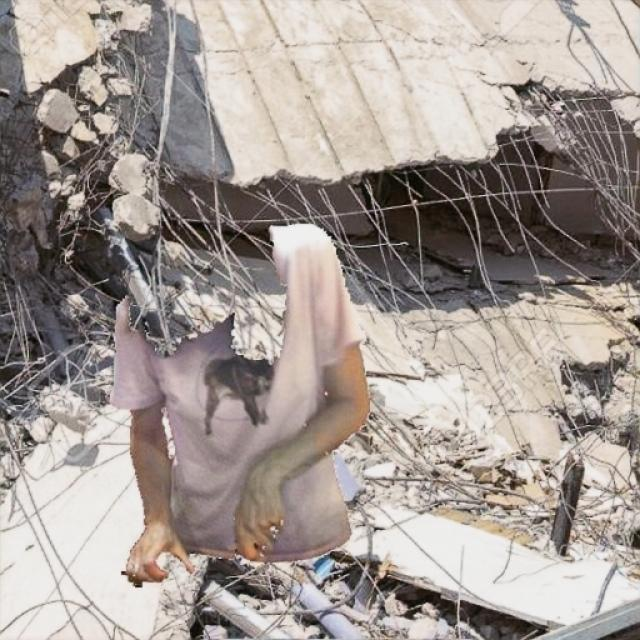Person in Rubble: (109, 224, 369, 586)
